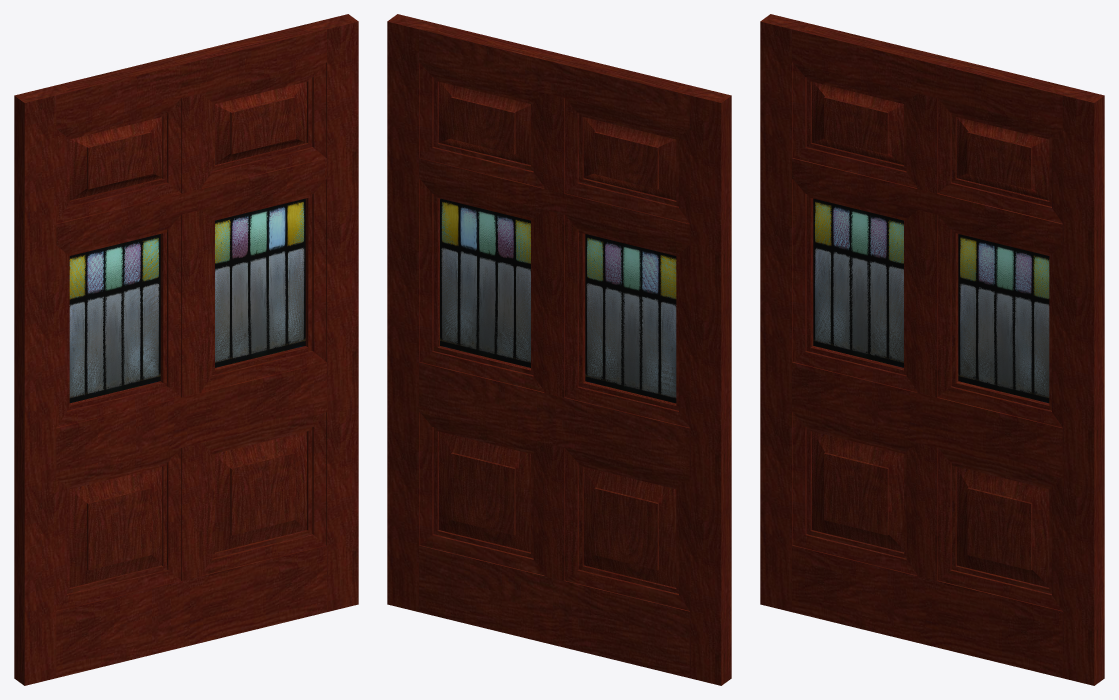
File: 6PanelDoor05Mahogany.fbx
3 renders of one model, left to right at view 1: azimuth 30°, elevation 25°; view 2: azimuth 150°, elevation 25°; view 3: azimuth 330°, elevation 25°, orthographic.
Visible parts, largest first — view 1: default; view 2: default; view 3: default.
Boxes of the visible parts, box(x1,y1,x2,y2) form: default: box(14, 14, 358, 685); default: box(387, 14, 731, 685); default: box(760, 14, 1104, 685).
Size of the model in its own units: 129 by 215 by 6.93.
